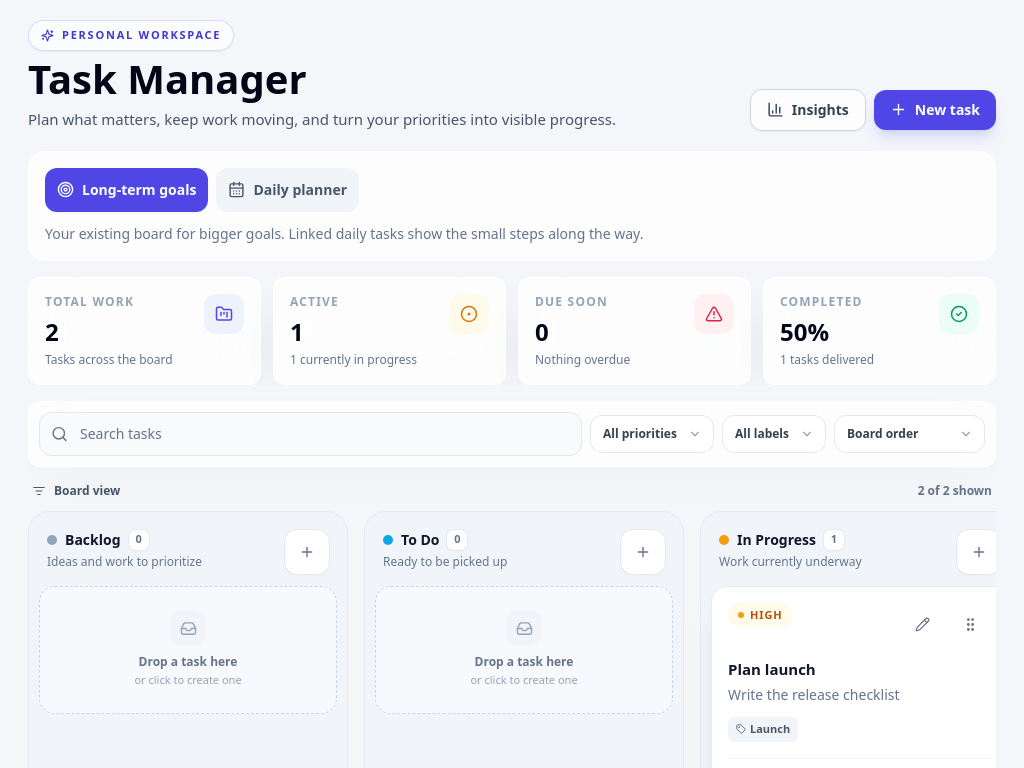
Test case: opens a complete task editor from the new task action
expect the heading "Plan launch" is shown: met, box [728,658,816,678]
Click the button "New task" at (935, 110), box [874,90,996,130]
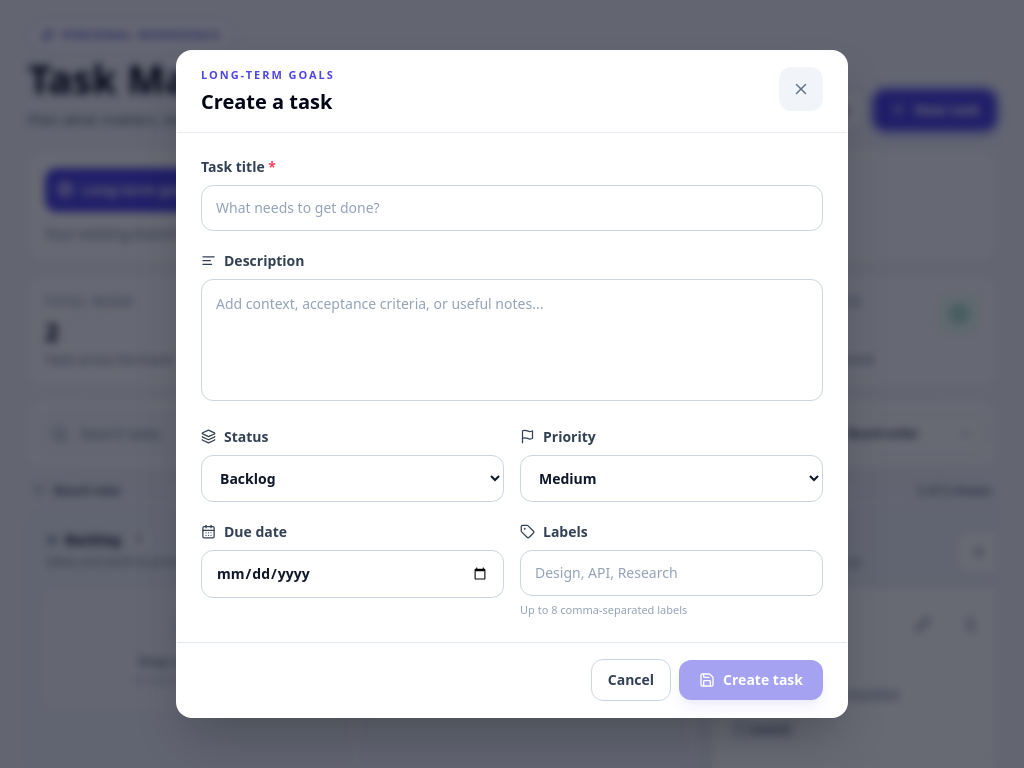
expect the dialog "Create a task" is shown: met, box [176,50,848,718]
expect the field labelled "Task title *" is shown: met
expect the dropdown labelled "Status" shows "Backlog": met, box [201,454,504,502]
Type "Review metrics" into the field labelled "Task title *" at (512, 208), box [201,184,823,230]
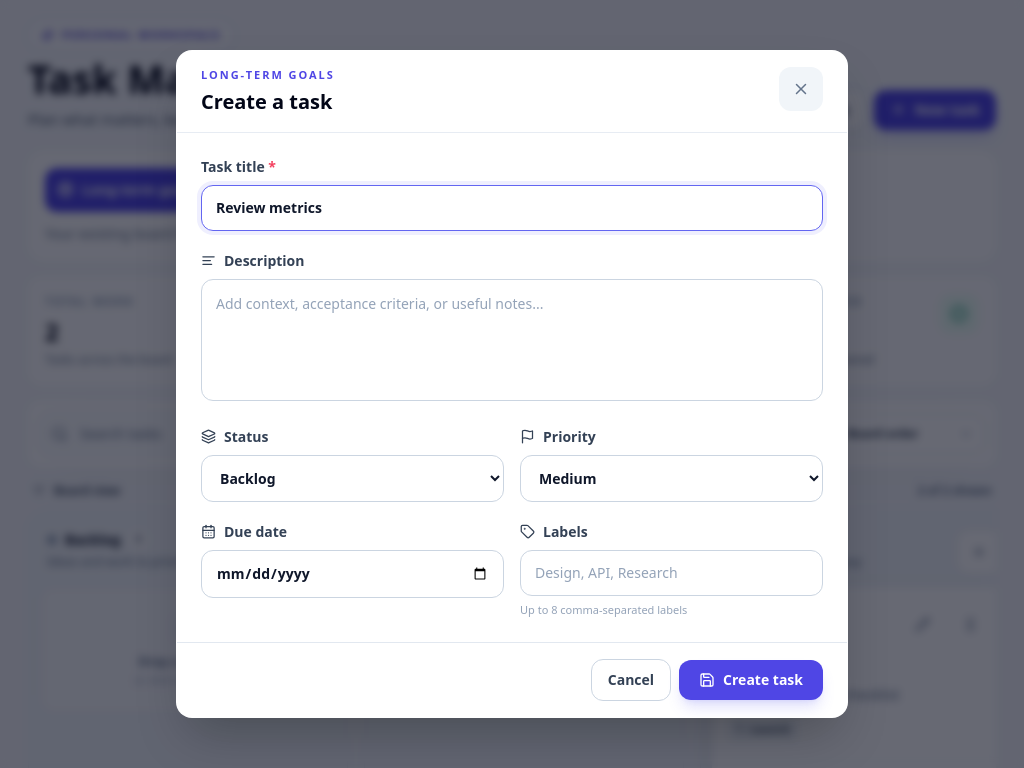
expect the button "Create task" is enabled: met, box [679,660,823,700]
